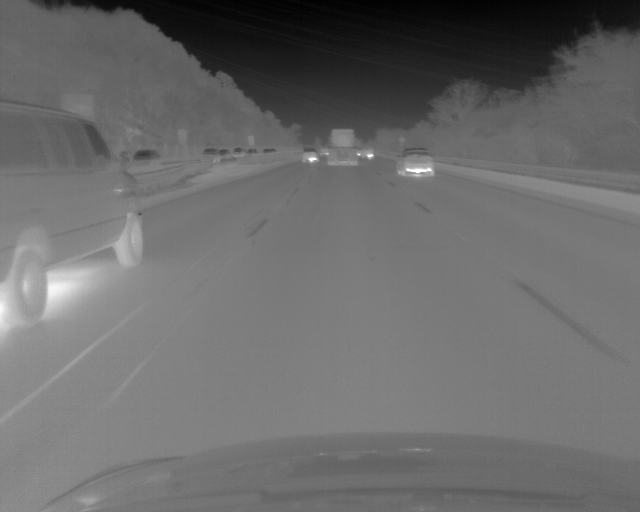car: (1, 100, 146, 330), (396, 148, 435, 177), (328, 128, 356, 166), (134, 146, 161, 161), (201, 148, 218, 164), (302, 147, 318, 162), (358, 145, 374, 160), (219, 148, 231, 160), (233, 147, 247, 157)
